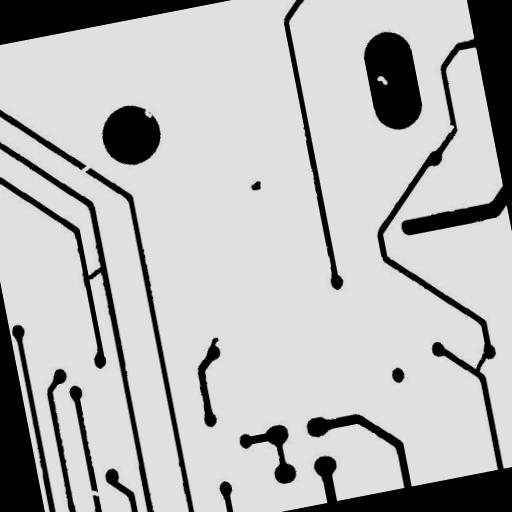copper: (241, 172, 270, 200)
mousebite: (438, 116, 464, 142), (136, 100, 160, 127)
open: (68, 155, 101, 184), (80, 480, 108, 506)
pin-hole: (368, 66, 396, 95)
short: (462, 344, 498, 385), (76, 258, 113, 288)
spur: (199, 328, 229, 362)
